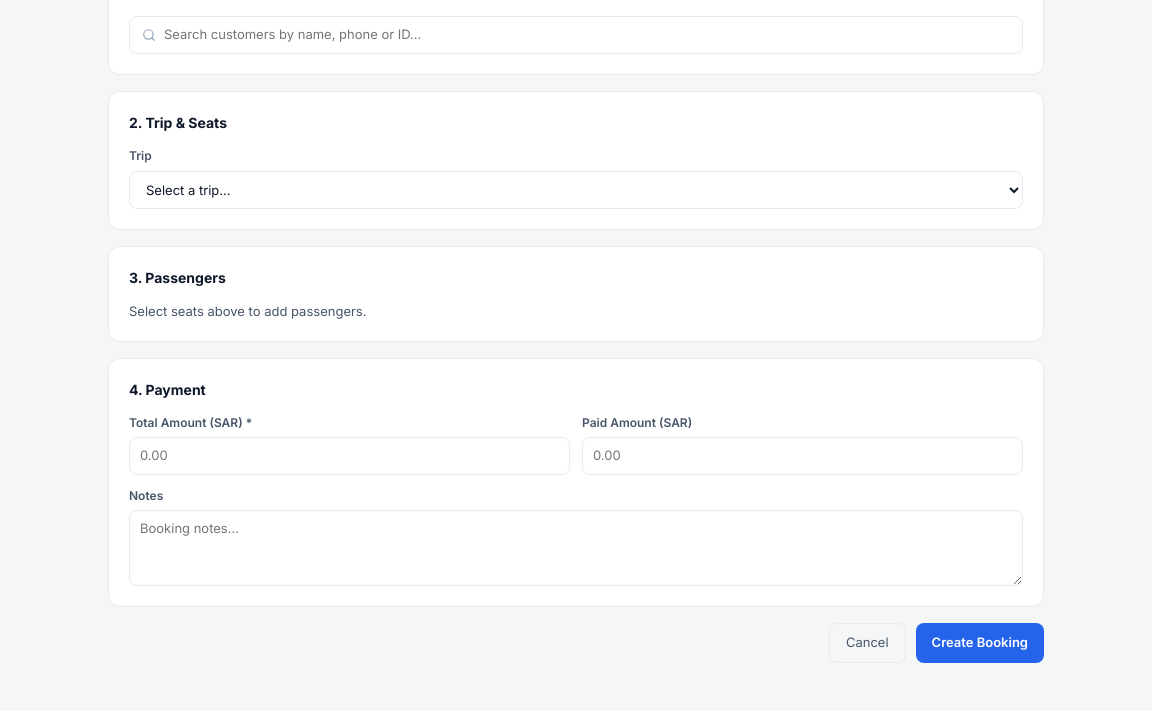
Test: NewBookingPage › blocks submission without customer, trip or seats
(page scrolled)
Click the button "Create Booking" at (980, 643), box [916,623,1044,663]
(page scrolled)
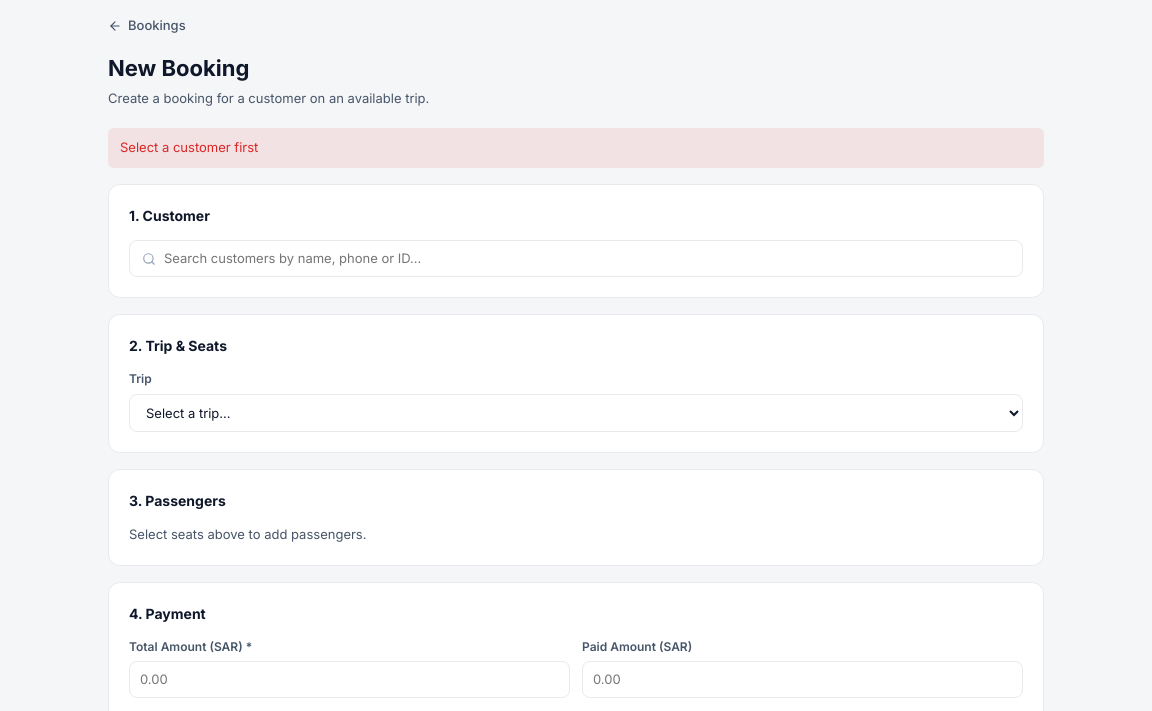
Check: the text "Select a customer first" is shown, box [108,128,1044,168]
